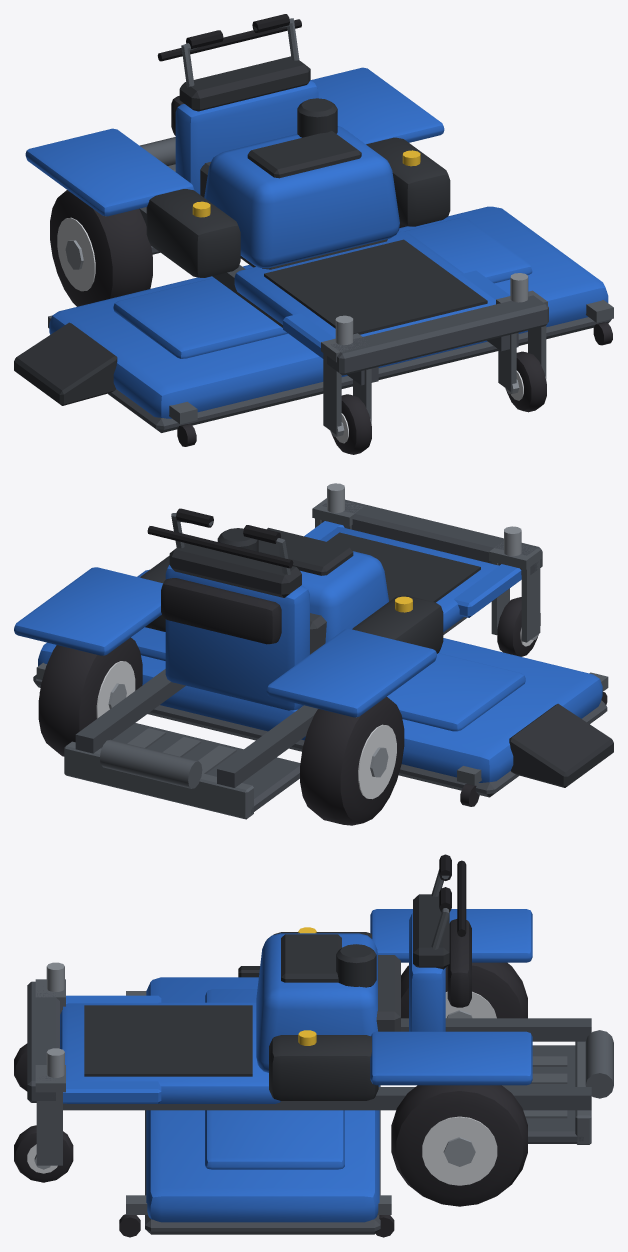
File: mower_standon.glb
The picture shows the model from 3 angles, top to bottom: view 1: azimuth 30°, elevation 25°; view 2: azimuth 150°, elevation 25°; view 3: azimuth 270°, elevation 25°; orthographic projection.
Visible parts, largest first — view 1: Chassis, Deck, Wheel_RR, Wheel_CR, Wheel_CL; view 2: Chassis, Deck, Wheel_RR, Wheel_RL, Wheel_CR; view 3: Chassis, Deck, Wheel_RL, Wheel_RR, Wheel_CL, Wheel_CR.
Boxes of the visible parts, <box> form: Chassis: <box>14,14,548,436</box>; Deck: <box>48,206,613,446</box>; Wheel_RR: <box>50,190,152,306</box>; Wheel_CR: <box>331,394,371,454</box>; Wheel_CL: <box>506,351,546,412</box>; Chassis: <box>14,483,613,819</box>; Deck: <box>33,569,608,806</box>; Wheel_RR: <box>300,697,404,825</box>; Wheel_RL: <box>38,637,142,756</box>; Wheel_CR: <box>497,597,540,656</box>; Chassis: <box>27,854,613,1169</box>; Deck: <box>119,977,394,1237</box>; Wheel_RL: <box>391,1085,527,1206</box>; Wheel_RR: <box>401,962,527,1018</box>; Wheel_CL: <box>14,1125,73,1182</box>; Wheel_CR: <box>14,1043,27,1091</box>.
Bounding box in the file's own units: 2.91 × 1.41 × 2.96.
